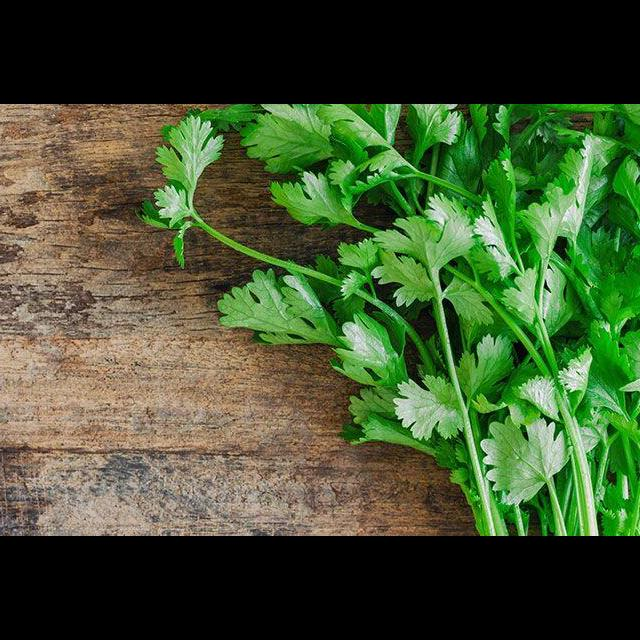cilantro: (250, 104, 640, 534)
